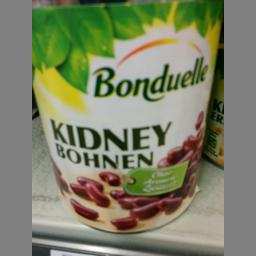beans: (30, 2, 220, 232)
